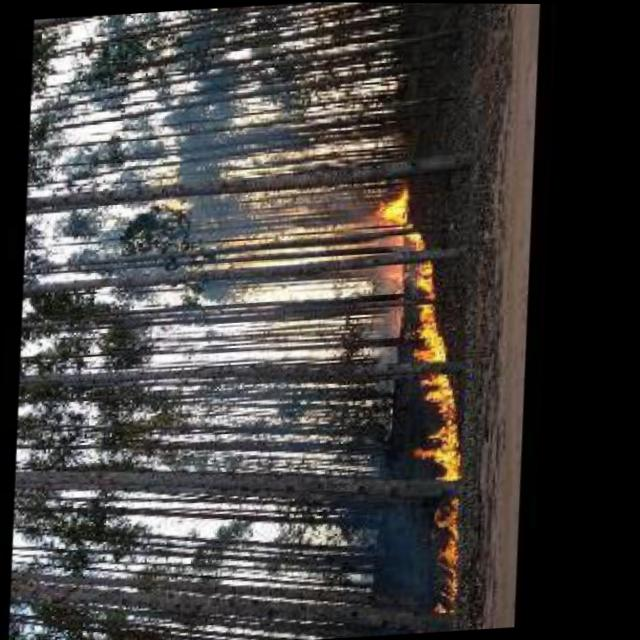Fire: (337, 177, 511, 624)
